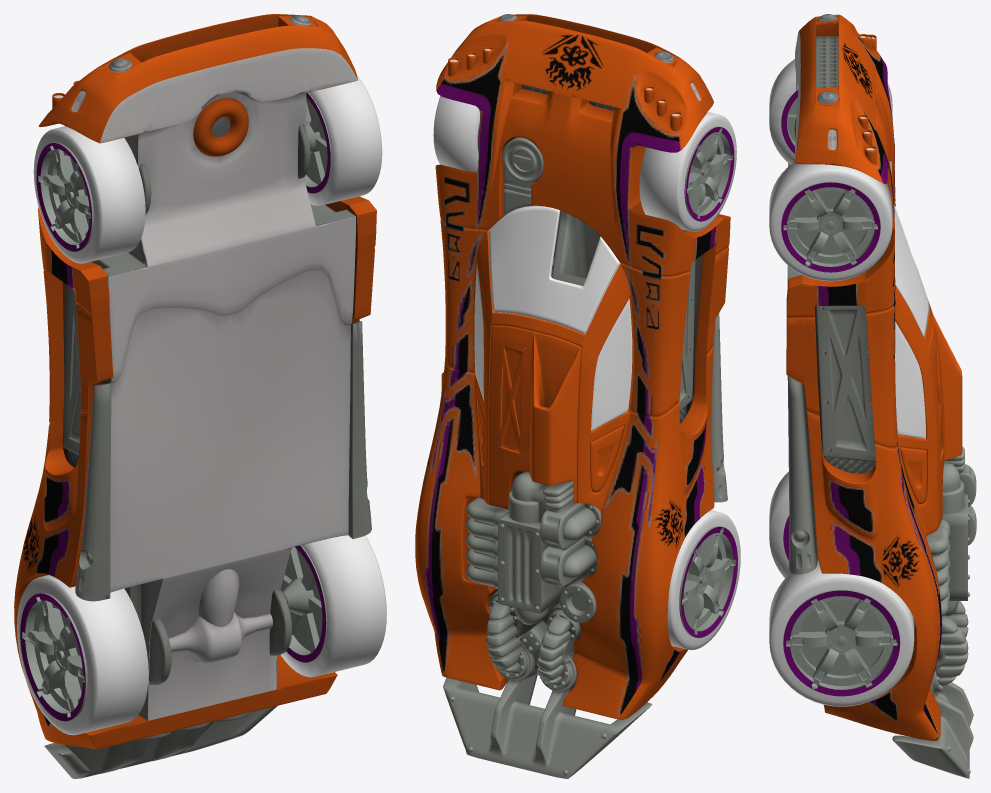
The model's file is spinebuster.glb.
3 renders of one model, left to right at view 1: azimuth 30°, elevation 25°; view 2: azimuth 150°, elevation 25°; view 3: azimuth 270°, elevation 25°, orthographic. The views are drawn at different scales.
Visible parts, largest first — view 1: Body, Wheel4, Wheel3, Wheel2, Wheel1; view 2: Body, Wheel2, Wheel4, Wheel1; view 3: Body, Wheel3, Wheel1, Wheel2, Wheel4.
Boxes of the visible parts, box(x1,y1,x2,y2) form: Body: box(14, 14, 376, 778); Wheel4: box(17, 575, 148, 735); Wheel3: box(281, 535, 386, 677); Wheel2: box(33, 126, 145, 263); Wheel1: box(305, 75, 382, 205); Body: box(415, 14, 730, 778); Wheel2: box(639, 112, 736, 231); Wheel4: box(667, 510, 740, 650); Wheel1: box(433, 96, 479, 172); Body: box(786, 14, 976, 778); Wheel3: box(769, 560, 914, 706); Wheel1: box(769, 162, 892, 281); Wheel2: box(769, 59, 892, 164); Wheel4: box(769, 471, 790, 578).
Bounding box in the file's own units: 3.15 × 7.98 × 2.12.
Materials: 10 (5 with a texture image).
